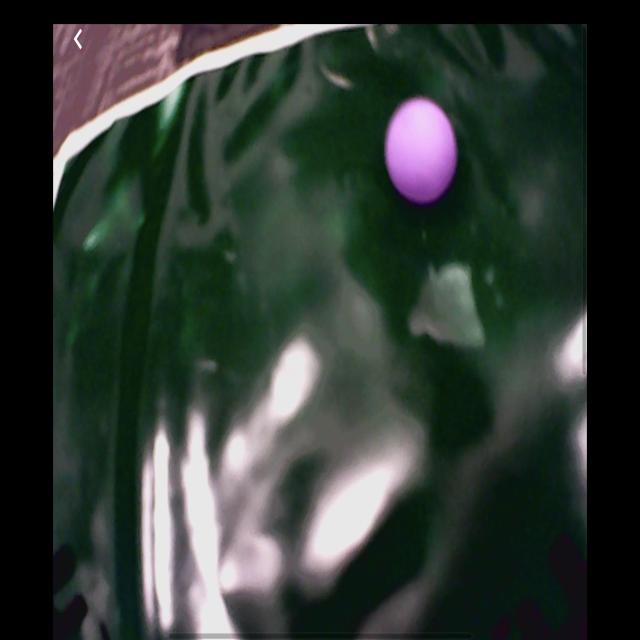ball: (386, 97, 459, 209)
